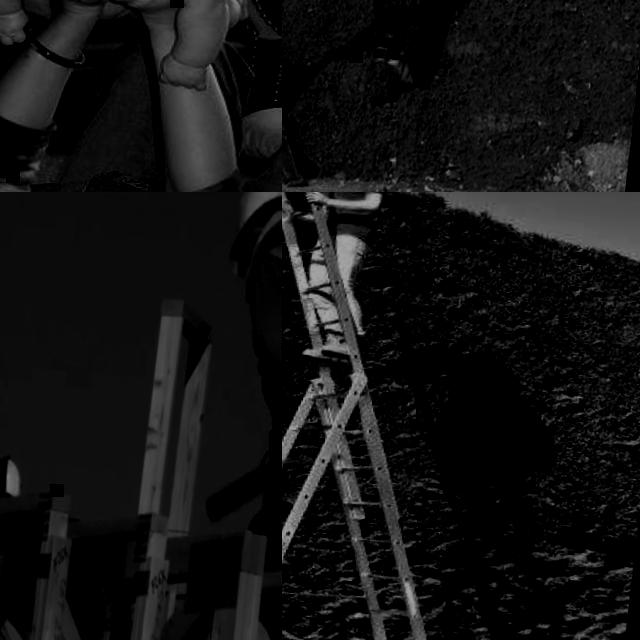helmet: (227, 192, 282, 282)
machinery: (282, 0, 443, 192)
no_helmet: (0, 451, 26, 499)
person: (0, 0, 282, 192), (177, 192, 282, 640), (0, 0, 256, 92), (282, 192, 394, 361)
vest: (251, 222, 282, 418)
